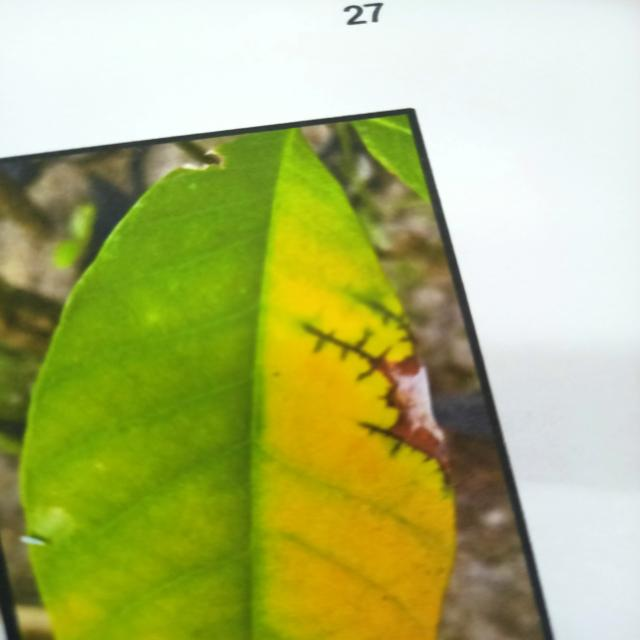Corynespora: (358, 420, 453, 486), (303, 323, 393, 381), (366, 299, 415, 346)
Leaf-Blight: (393, 367, 446, 438)
